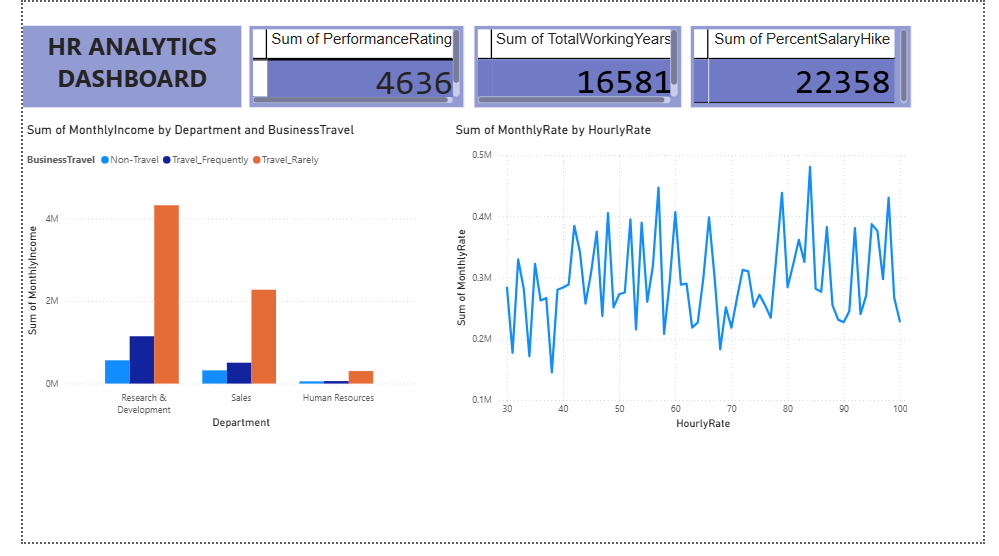

Layout of this report page (visuals, bound fields, positions):
{"tool":"powerbi","page":{"name":"Page 1","canvas":[1280,720],"ordinal":0},"visuals":[{"type":"textbox","box":[0,31.6,290.9,108.4],"z":0},{"type":"pivotTable","fields":{"Values":["Sum(Clean_HR_Analytics.PerformanceRating)"]},"box":[301.9,31.6,285.4,108.4],"z":2},{"type":"pivotTable","fields":{"Values":["Sum(Clean_HR_Analytics.TotalWorkingYears)"]},"box":[602.4,31.6,275.8,108.4],"z":3},{"type":"pivotTable","fields":{"Values":["Sum(Clean_HR_Analytics.PercentSalaryHike)"]},"box":[890.6,31.6,293.7,108.4],"z":4},{"type":"lineChart","fields":{"Category":["Clean_HR_Analytics.HourlyRate"],"Y":["Sum(Clean_HR_Analytics.MonthlyRate)"]},"box":[571.1,160.2,612.6,414.5],"z":6},{"type":"clusteredColumnChart","fields":{"Category":["Clean_HR_Analytics.Department"],"Series":["Clean_HR_Analytics.BusinessTravel"],"Y":["Sum(Clean_HR_Analytics.MonthlyIncome)"]},"box":[0,160.2,529.5,413.3],"z":7}]}

Visuals, with their boxes in screenshot pixels (x1, y1, x2, y2), scaled from the page's 1280x720 canvas onto the 999x556 screenshot:
textbox: rect(0, 24, 227, 108)
pivotTable - Sum(Clean_HR_Analytics.PerformanceRating): rect(236, 24, 458, 108)
pivotTable - Sum(Clean_HR_Analytics.TotalWorkingYears): rect(470, 24, 685, 108)
pivotTable - Sum(Clean_HR_Analytics.PercentSalaryHike): rect(695, 24, 924, 108)
lineChart - Clean_HR_Analytics.HourlyRate x Sum(Clean_HR_Analytics.MonthlyRate): rect(446, 124, 924, 444)
clusteredColumnChart - Clean_HR_Analytics.Department x Clean_HR_Analytics.BusinessTravel: rect(0, 124, 413, 443)
